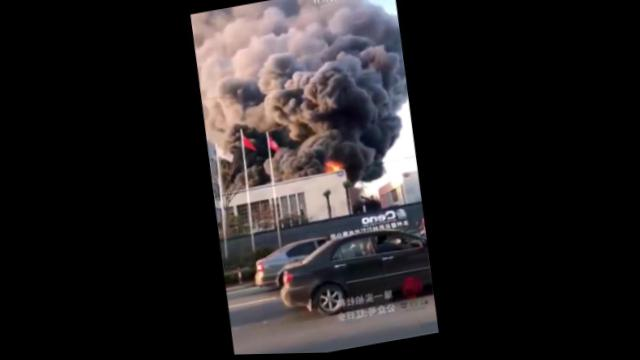fire: (325, 157, 347, 173)
